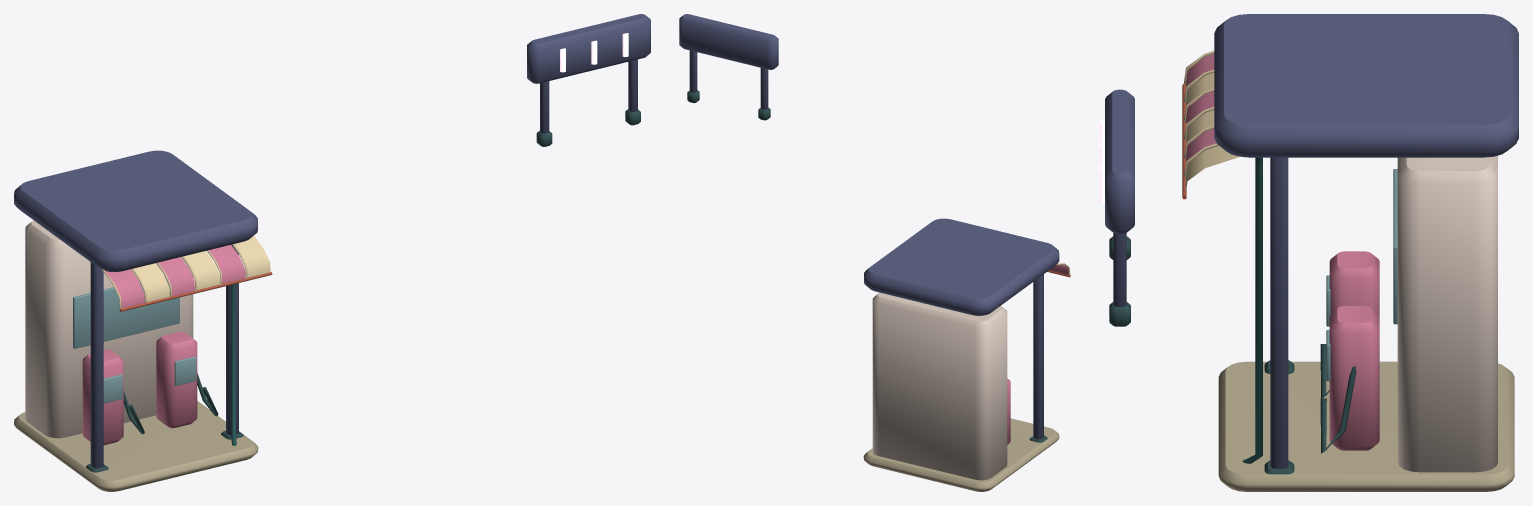
File: japan_charge_4.glb
3 views of the same model, side by side, from view 1: azimuth 30°, elevation 25°; view 2: azimuth 150°, elevation 25°; view 3: azimuth 270°, elevation 25° (orthographic). The views are drawn at different scales.
Parts seen in each view (by area): view 1: JapanCharge4; view 2: JapanCharge4; view 3: JapanCharge4.
Boxes of the visible parts, left/top/right/bottom form: JapanCharge4: left=14, top=14, right=650, bottom=491; JapanCharge4: left=679, top=14, right=1070, bottom=491; JapanCharge4: left=1099, top=14, right=1518, bottom=491.
Bounding box in the file's own units: 7.52 × 5.35 × 3.51.
